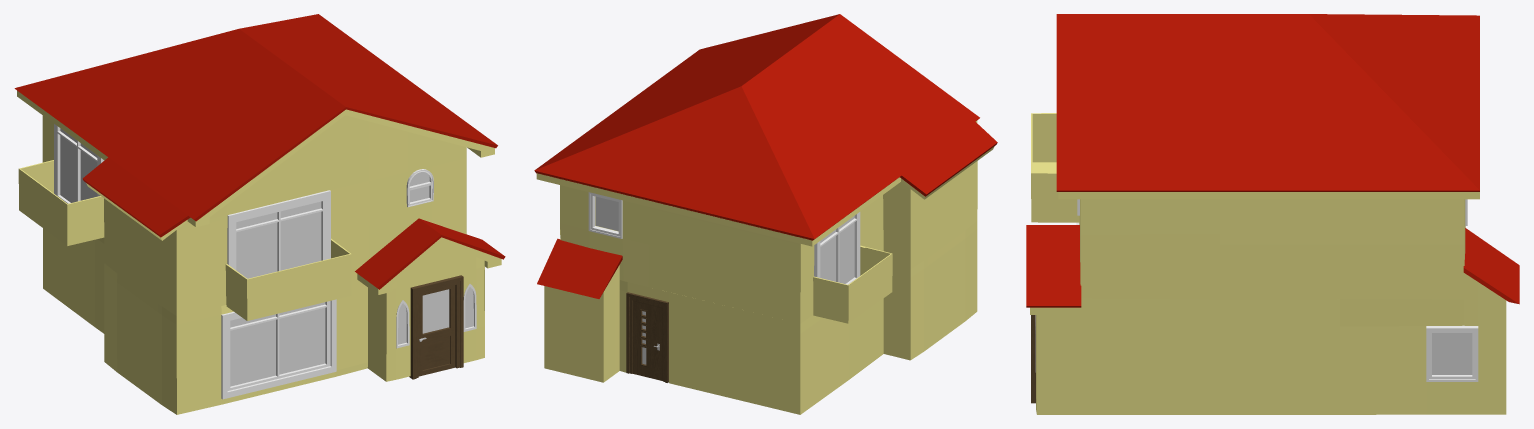
The model's file is outside_house 1.fbx.
3 views of the same model, side by side, from view 1: azimuth 30°, elevation 25°; view 2: azimuth 150°, elevation 25°; view 3: azimuth 270°, elevation 25° (orthographic). The views are drawn at different scales.
Parts seen in each view (by area): view 1: outside_walls, roof_tiles, living_room_slidoor_glass, main_bedroom_slidoor_glass, living_room_slidoor, roof_front_tiles, roof, main_bedroom_slidoor, front_door, front_door_frame, bedroom_slidoor_glass, front_door_glass (+4 smaller); view 2: outside_walls, roof_tiles, roof_back_tiles, roof, back_door, bedroom_slidoor_glass, back_door_frame, bedroom_slidoor, hallway_window_frame, hallway_glass; view 3: outside_walls, roof_tiles, roof_front_tiles, roof, roof_back_tiles, laundry_window_glass, laundry_window.
Part boxes in pixels (x1=…): outside_walls: x1=18, y1=115, x2=484, y2=414; roof_tiles: x1=14, y1=14, x2=497, y2=237; living_room_slidoor_glass: x1=230, y1=302, x2=325, y2=386; main_bedroom_slidoor_glass: x1=236, y1=201, x2=321, y2=278; living_room_slidoor: x1=221, y1=299, x2=336, y2=399; roof_front_tiles: x1=355, y1=218, x2=505, y2=289; roof: x1=17, y1=90, x2=494, y2=240; main_bedroom_slidoor: x1=227, y1=190, x2=330, y2=271; front_door: x1=418, y1=285, x2=455, y2=376; front_door_frame: x1=409, y1=275, x2=463, y2=379; bedroom_slidoor_glass: x1=60, y1=128, x2=97, y2=202; front_door_glass: x1=422, y1=289, x2=449, y2=333; outside_walls: x1=544, y1=161, x2=977, y2=414; roof_tiles: x1=534, y1=14, x2=997, y2=240; roof_back_tiles: x1=537, y1=238, x2=622, y2=298; roof: x1=536, y1=120, x2=994, y2=246; back_door: x1=632, y1=300, x2=662, y2=380; bedroom_slidoor_glass: x1=820, y1=216, x2=854, y2=283; back_door_frame: x1=626, y1=292, x2=668, y2=382; bedroom_slidoor: x1=814, y1=212, x2=860, y2=284; hallway_window_frame: x1=588, y1=192, x2=622, y2=238; hallway_glass: x1=595, y1=196, x2=618, y2=231; outside_walls: x1=1031, y1=113, x2=1506, y2=414; roof_tiles: x1=1056, y1=14, x2=1479, y2=191; roof_front_tiles: x1=1026, y1=225, x2=1081, y2=307; roof: x1=1058, y1=192, x2=1479, y2=199; roof_back_tiles: x1=1463, y1=228, x2=1519, y2=304; laundry_window_glass: x1=1432, y1=333, x2=1472, y2=374; laundry_window: x1=1426, y1=325, x2=1478, y2=381.
Bounding box in the file's own units: 1009 × 811 × 1105.
